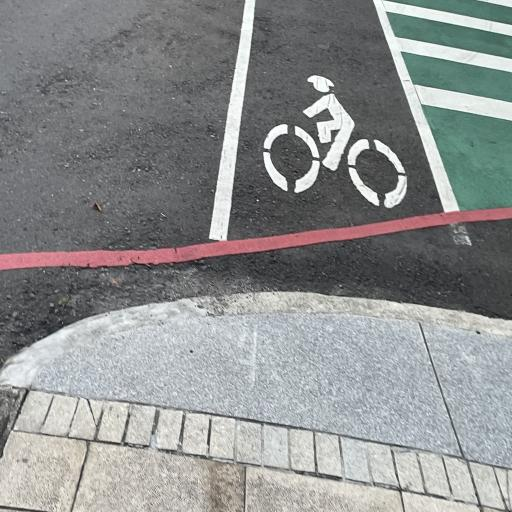redline: (1, 200, 511, 273)
